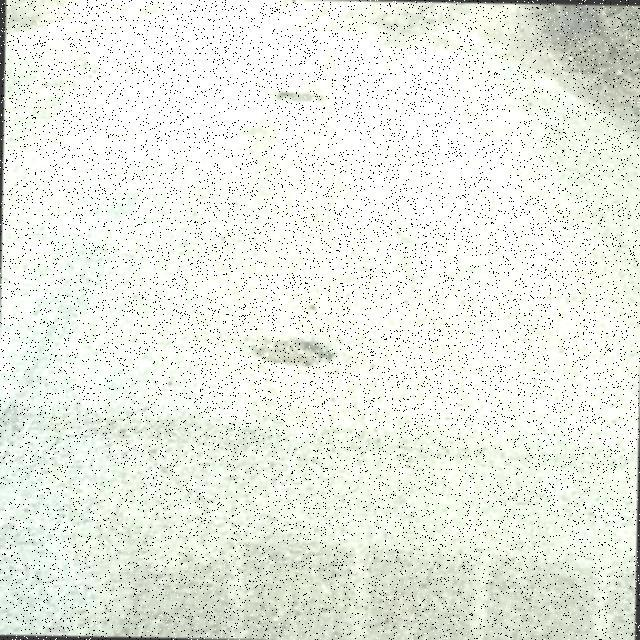Pothole: (239, 335, 336, 369), (275, 89, 327, 107)
